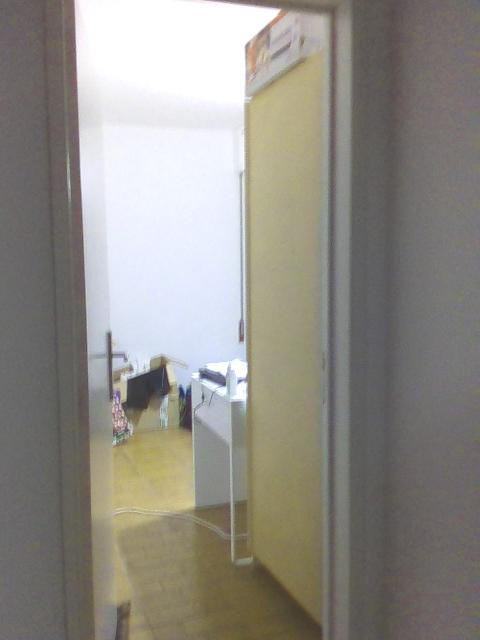open_door: (43, 1, 356, 638)
